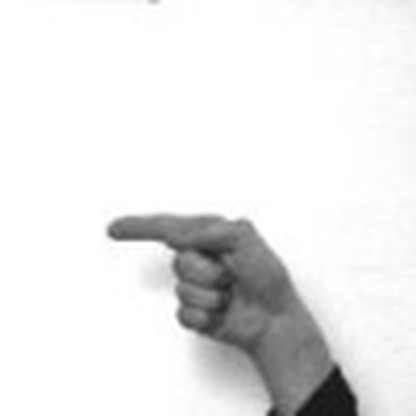g: (96, 199, 286, 346)
